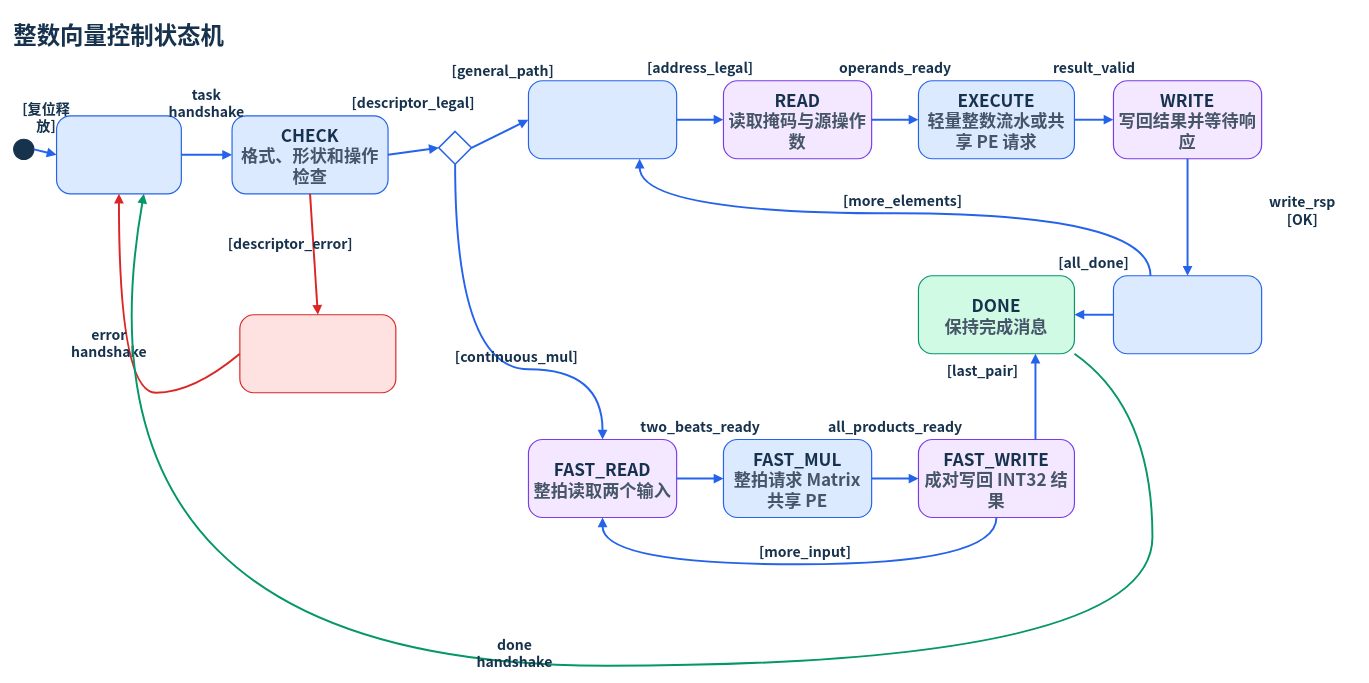
Image size: 1369x683. Some labels were removed from this diagram. Here are the shapes that lost their labels. From the top down, the box of each, then its label:
(528, 80, 677, 159): ADDRESS 形成并检查元素地址
(56, 115, 182, 194): IDLE 等待向量任务
(1113, 275, 1262, 354): ADVANCE 推进元素或行
(239, 314, 396, 393): ERROR 形成描述符错误完成消息
